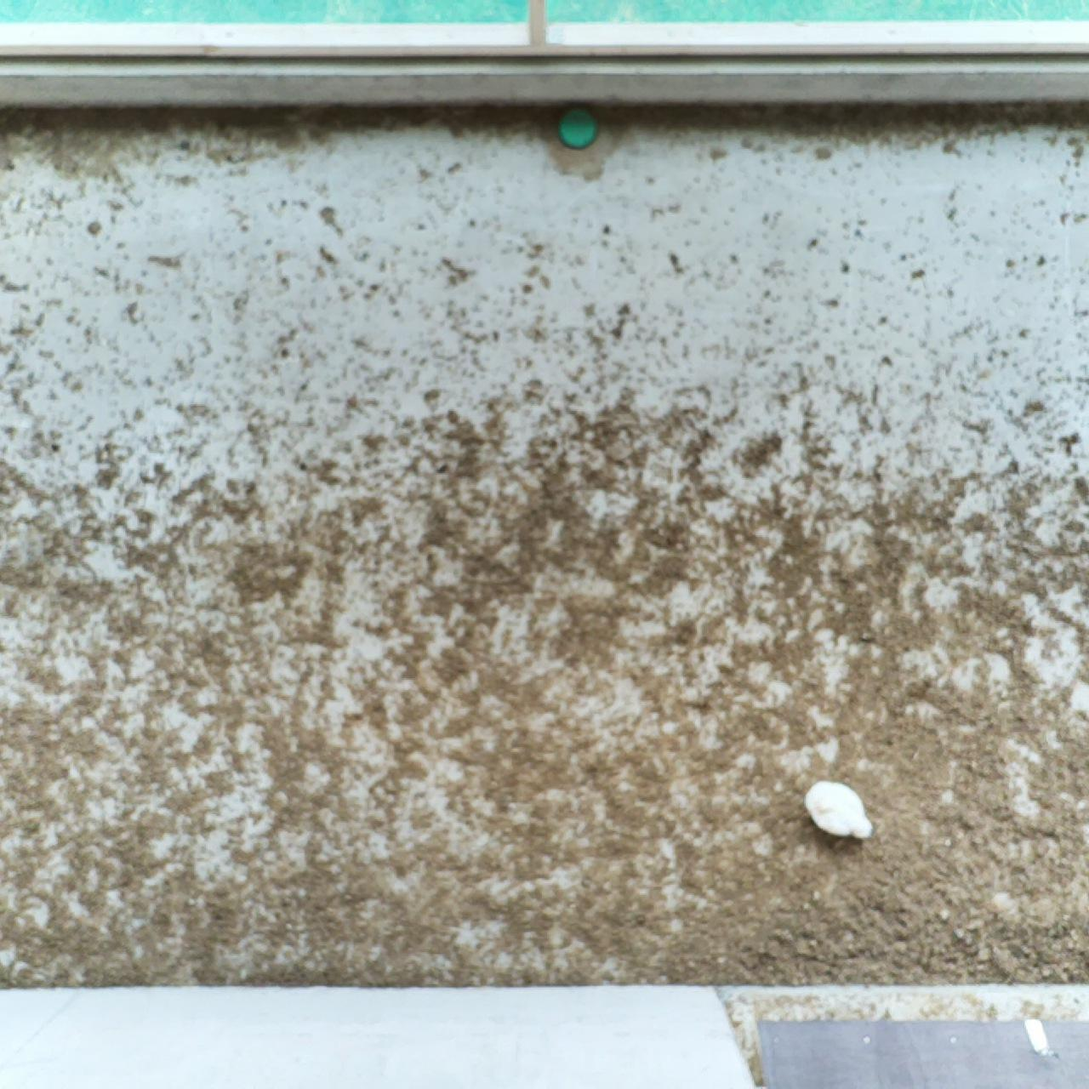chicken: (803, 776, 877, 844)
